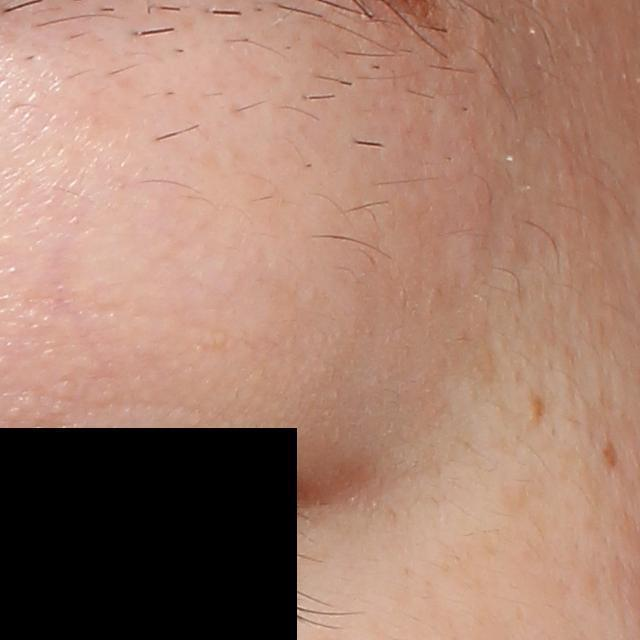nevus: (599, 436, 619, 470), (529, 396, 547, 429)
